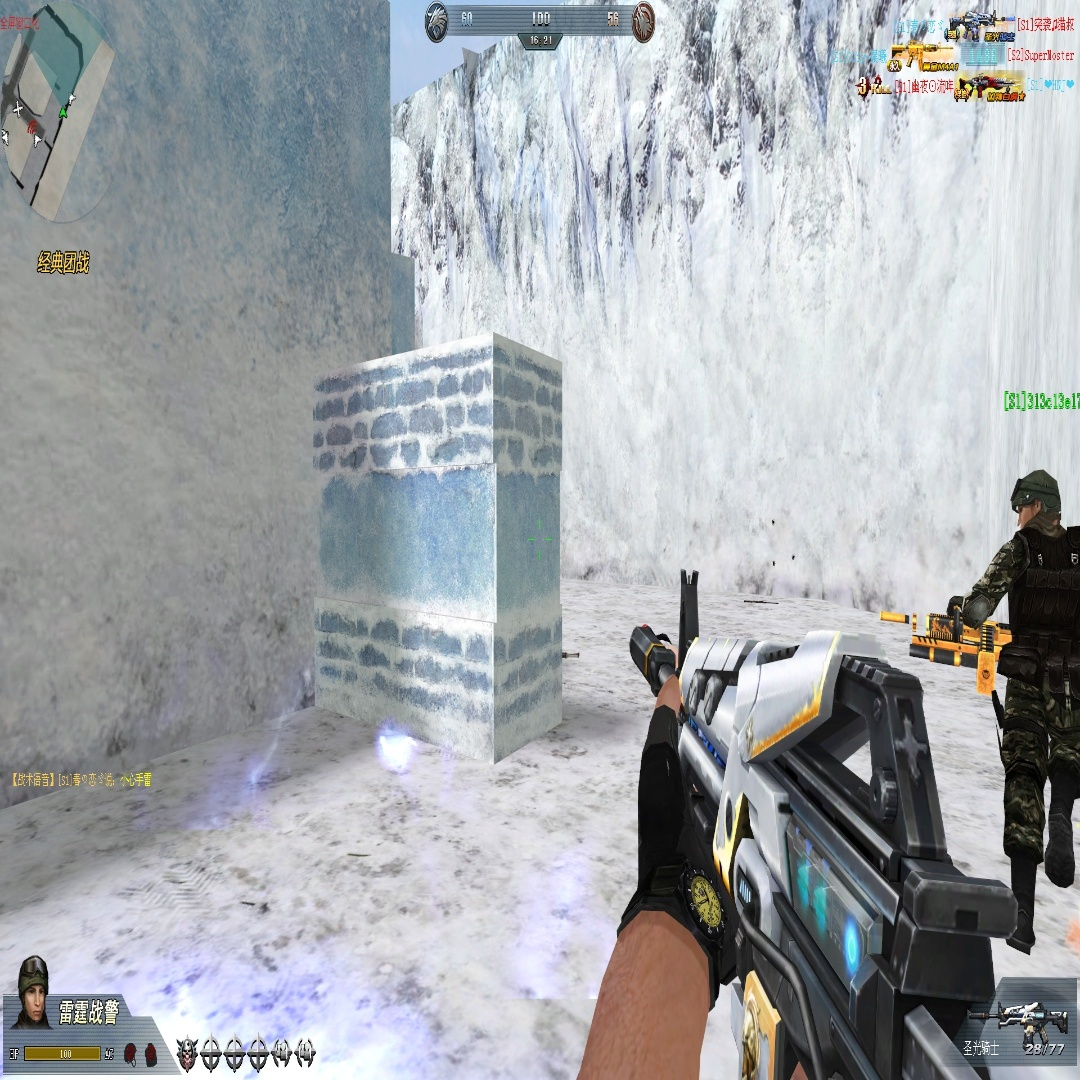ct: (947, 470, 1080, 953)
